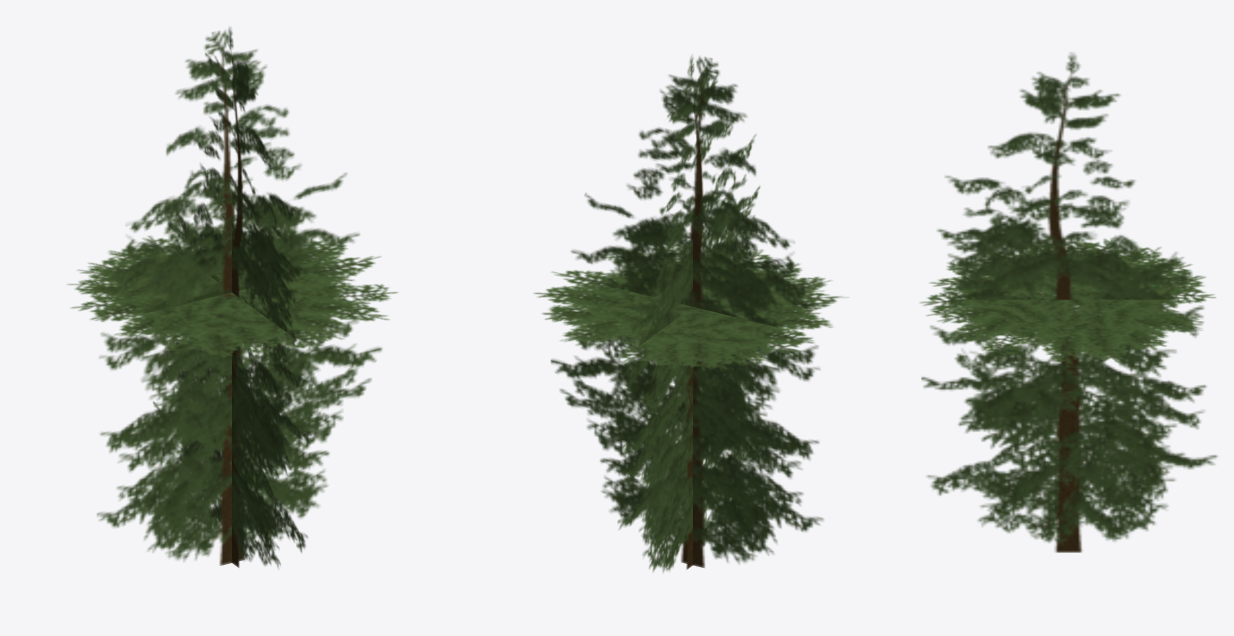
Rendered from fir-large-1-lod-3.glb.
3 renders of one model, left to right at view 1: azimuth 30°, elevation 25°; view 2: azimuth 150°, elevation 25°; view 3: azimuth 270°, elevation 25°, orthographic. The views are drawn at different scales.
Visible parts, largest first — view 1: fir-large-1-lod-3; view 2: fir-large-1-lod-3; view 3: fir-large-1-lod-3.
Boxes of the visible parts, <box> form: fir-large-1-lod-3: <box>67,27,397,567</box>; fir-large-1-lod-3: <box>533,56,848,572</box>; fir-large-1-lod-3: <box>920,52,1217,552</box>.
Bounding box in the file's own units: 5.23 × 9.23 × 5.04.
1 material, 1 textured.
